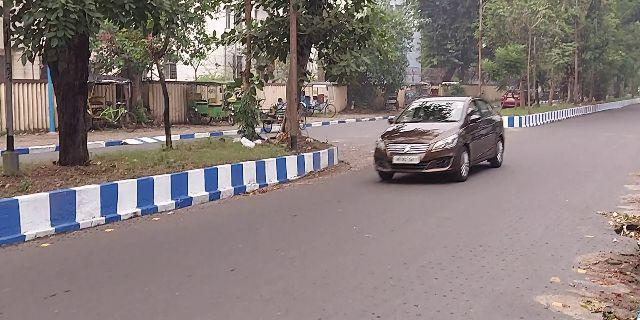Car: (373, 93, 510, 182)
